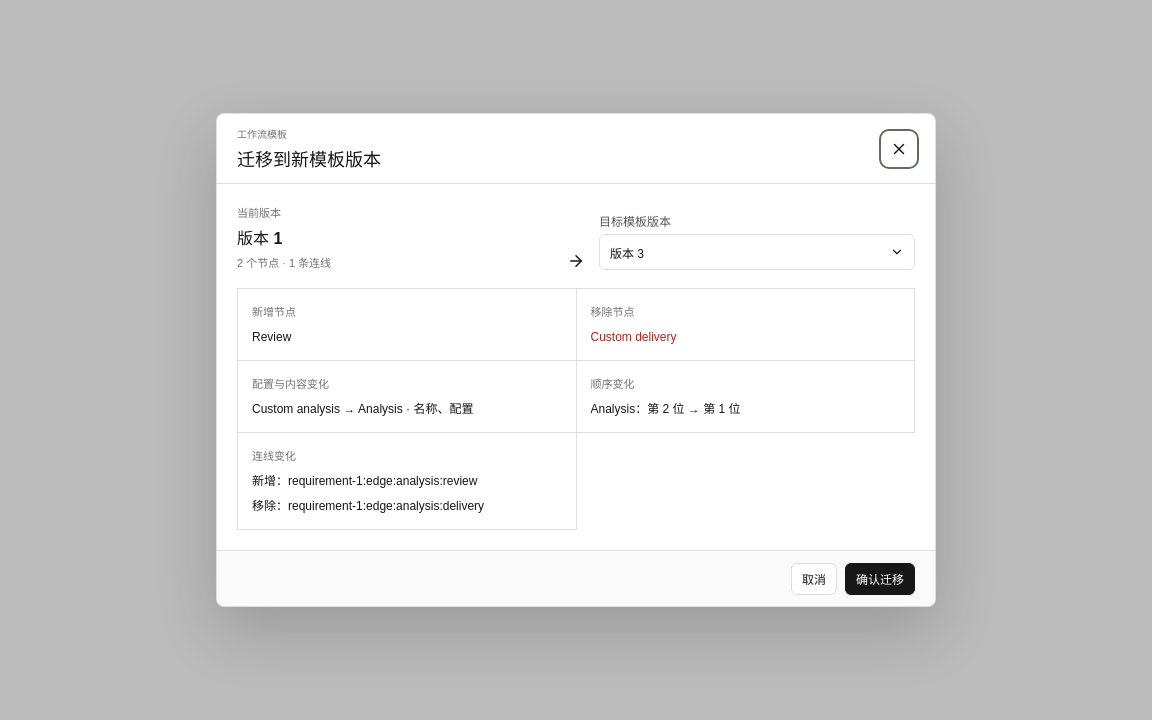
Test case: refreshes a stale preview without replacing the workflow on failure
Click the button "确认迁移": (880, 578) [845,562,915,594]
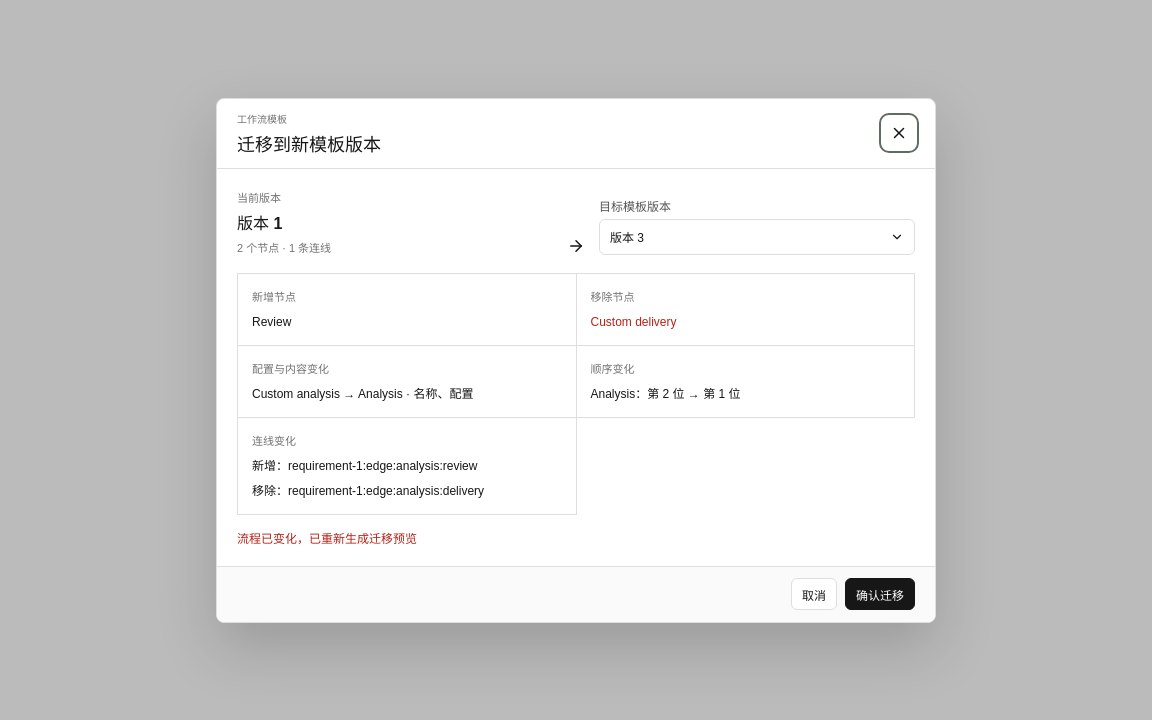
Expected: the text "流程已变化，已重新生成迁移预览" is shown, [237,532,417,546]
Click the button "确认迁移": (880, 594) [845,578,915,610]
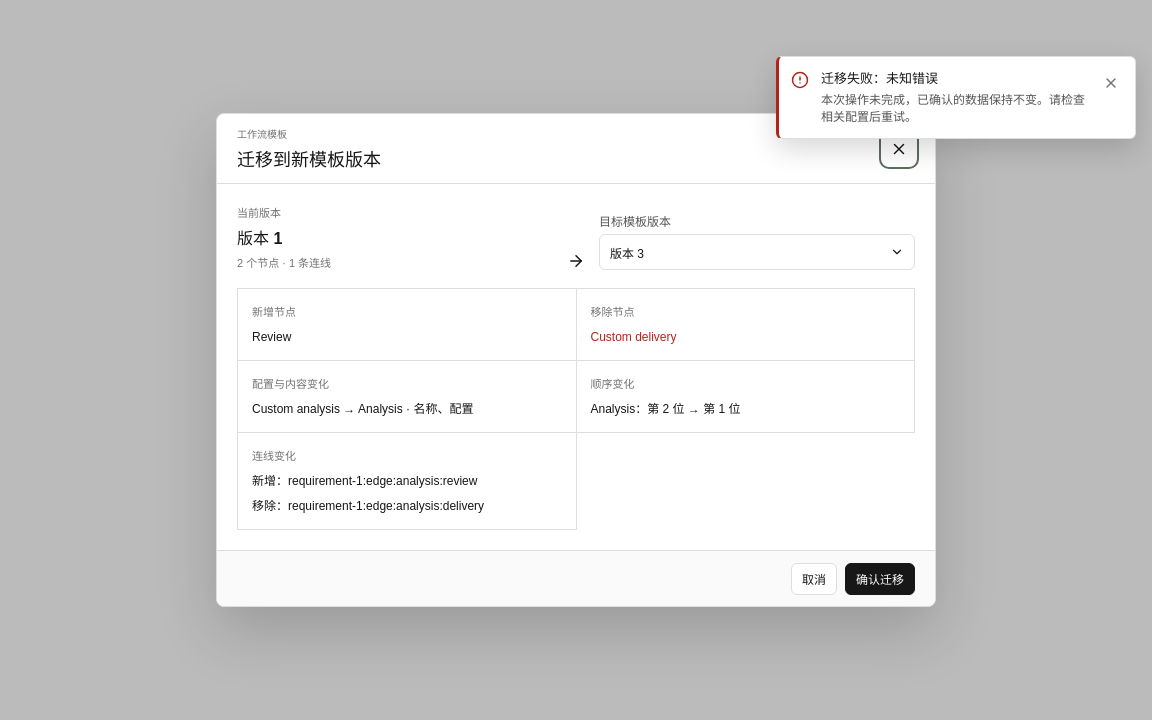
Expected: the text "迁移失败：未知错误" is shown, [821,71,938,86]
